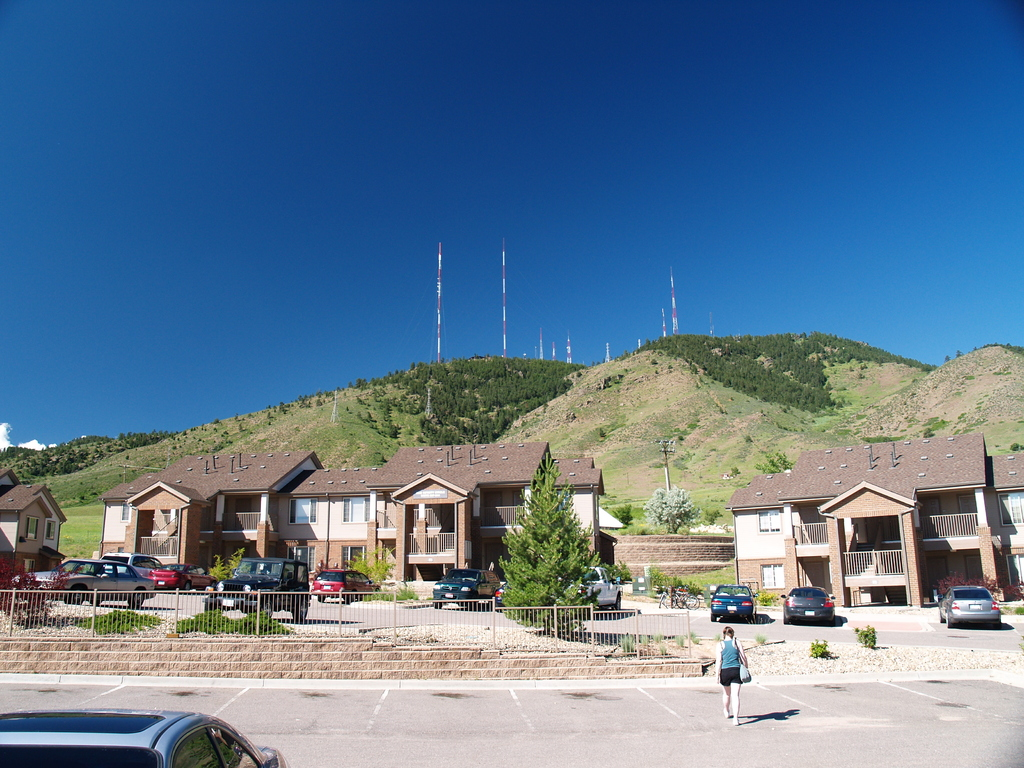cars: (12, 547, 381, 620), (0, 705, 282, 767), (426, 563, 498, 605), (939, 586, 1003, 629), (712, 582, 757, 622), (779, 588, 837, 619)
